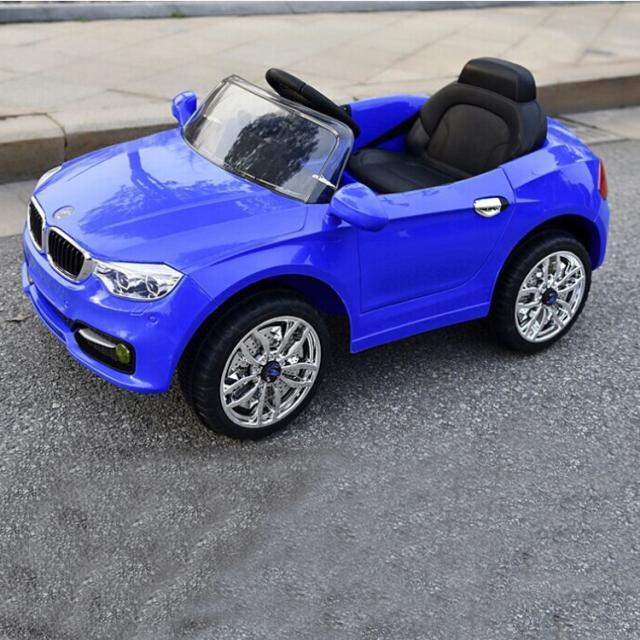Car: (21, 57, 610, 441)
